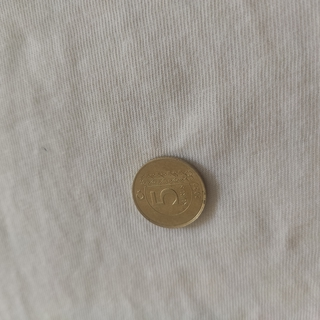5KURUS: (131, 156, 208, 229)
